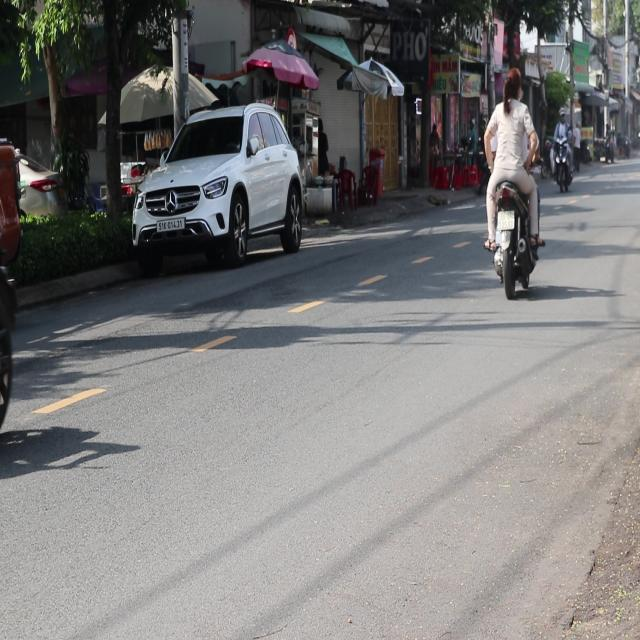licenseplate: (481, 64, 544, 296)
motorcyclist: (502, 66, 522, 102)
nohelmet: (498, 211, 514, 230)
